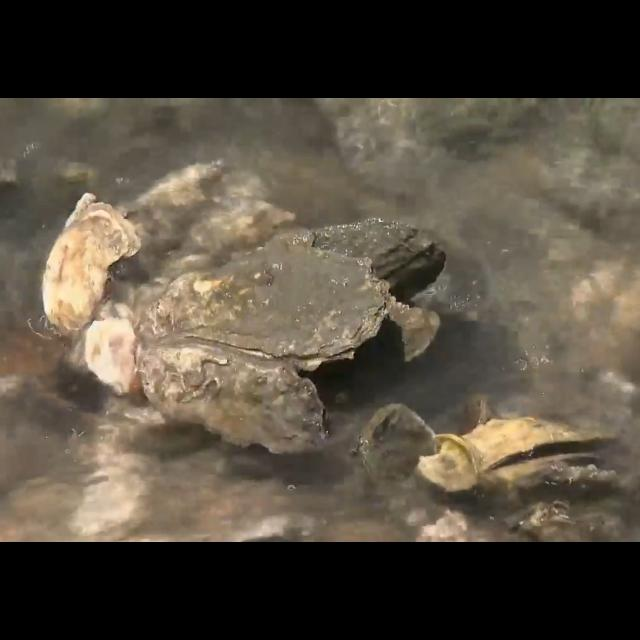Oyster-Closed: (152, 242, 394, 370), (137, 342, 327, 452), (40, 191, 140, 329), (294, 217, 448, 291), (356, 403, 436, 499), (82, 318, 142, 397)
Oyster-Open: (419, 414, 617, 492)
